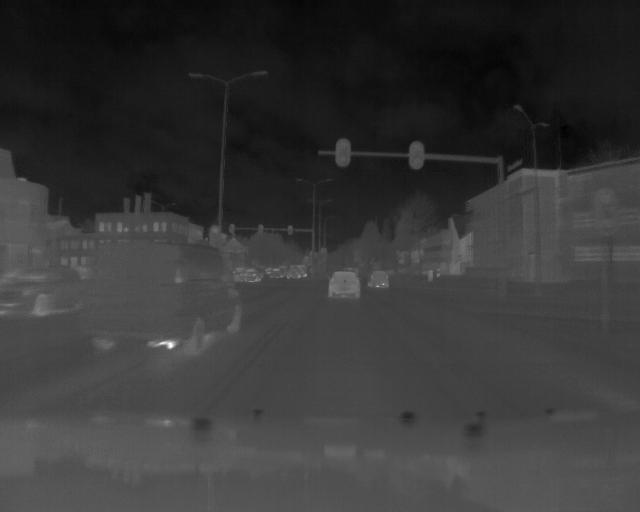car: (94, 241, 244, 351), (3, 268, 84, 315), (323, 272, 365, 300), (368, 270, 388, 290), (242, 268, 260, 283)
